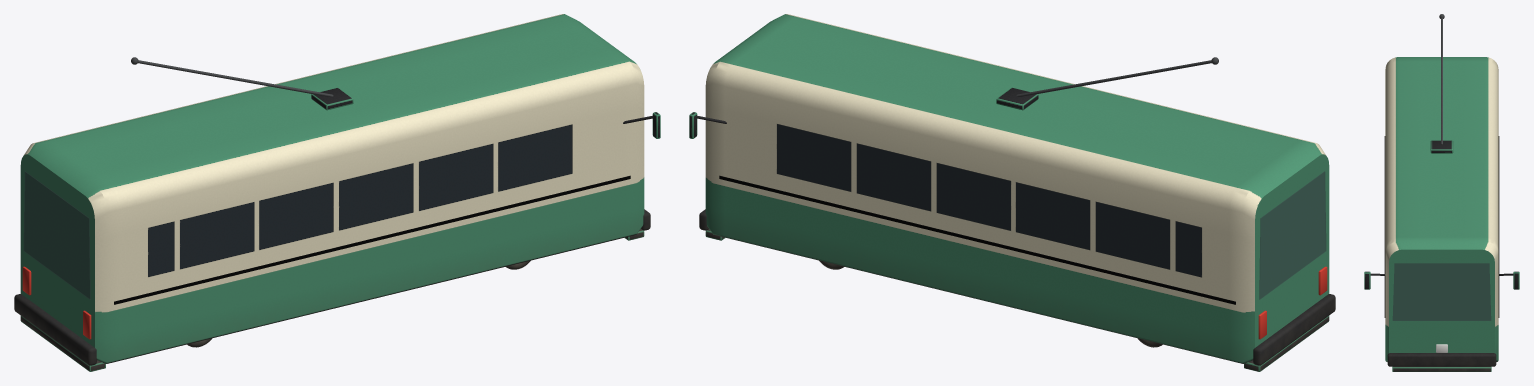
Rendered from bonde-sf.glb.
3 renders of one model, left to right at view 1: azimuth 30°, elevation 25°; view 2: azimuth 150°, elevation 25°; view 3: azimuth 270°, elevation 25°, orthographic. The views are drawn at different scales.
Parts seen in each view (by area): view 1: body, glass_rear, bumper_rear; view 2: body, glass_rear, bumper_rear; view 3: body, glass_windshield, bumper_front.
Part boxes in pixels (left/top/right/bottom): body: left=20, top=14, right=660, bottom=371; glass_rear: left=23, top=171, right=90, bottom=299; bumper_rear: left=14, top=294, right=96, bottom=365; body: left=689, top=14, right=1329, bottom=371; glass_rear: left=1259, top=171, right=1326, bottom=299; bumper_rear: left=1253, top=294, right=1335, bottom=365; body: left=1364, top=14, right=1519, bottom=371; glass_windshield: left=1392, top=263, right=1491, bottom=320; bumper_front: left=1387, top=353, right=1496, bottom=366.
Size of what is drawn, in the model's own units: 10.24 by 4.86 by 3.44.
6 materials, 5 textured.
